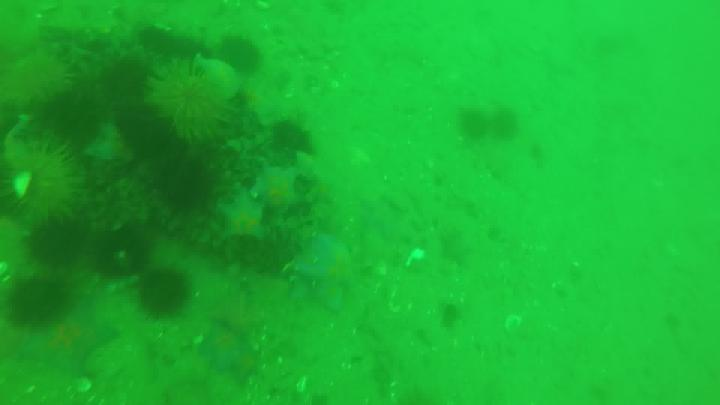echinus: (143, 64, 225, 136), (117, 107, 190, 175), (38, 87, 106, 149), (156, 161, 216, 214), (14, 270, 69, 327), (97, 226, 156, 279), (139, 24, 212, 61), (28, 220, 88, 265), (137, 266, 188, 318), (219, 35, 261, 72), (272, 120, 315, 155), (493, 111, 523, 140), (462, 109, 491, 139)
scallop: (13, 173, 34, 200), (505, 316, 521, 333)
starfish: (299, 229, 359, 311), (222, 188, 267, 246), (256, 162, 307, 211), (362, 190, 403, 243)
